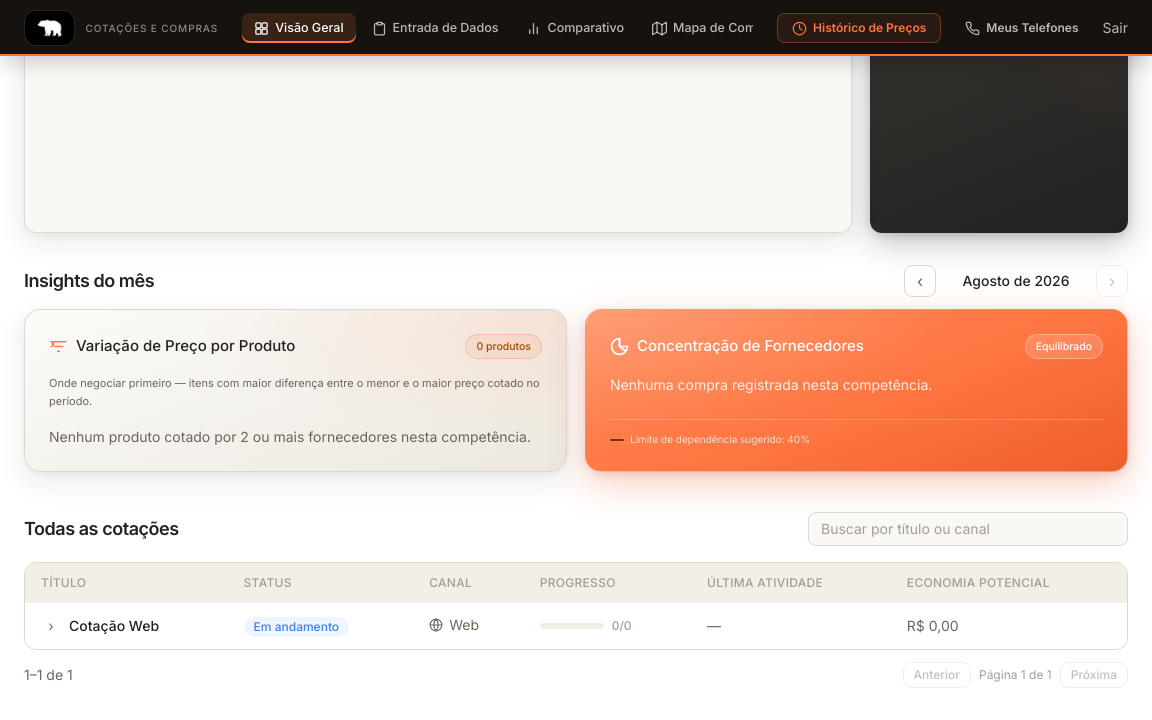
Scenario: Dashboard — tabela 'Todas as cotações', coluna Título › expande/colapsa o resumo da linha ao clicar no chevron, alternando aria-expanded
(page scrolled)
Check: the link "Cotação Web" is shown, box [69,617,159,634]
Check: the text "Nenhum produto adicionado a esta cotação ainda." is not shown
Click the button named "Expandir detalhes" at coordinates (51, 626), box [41,616,61,636]
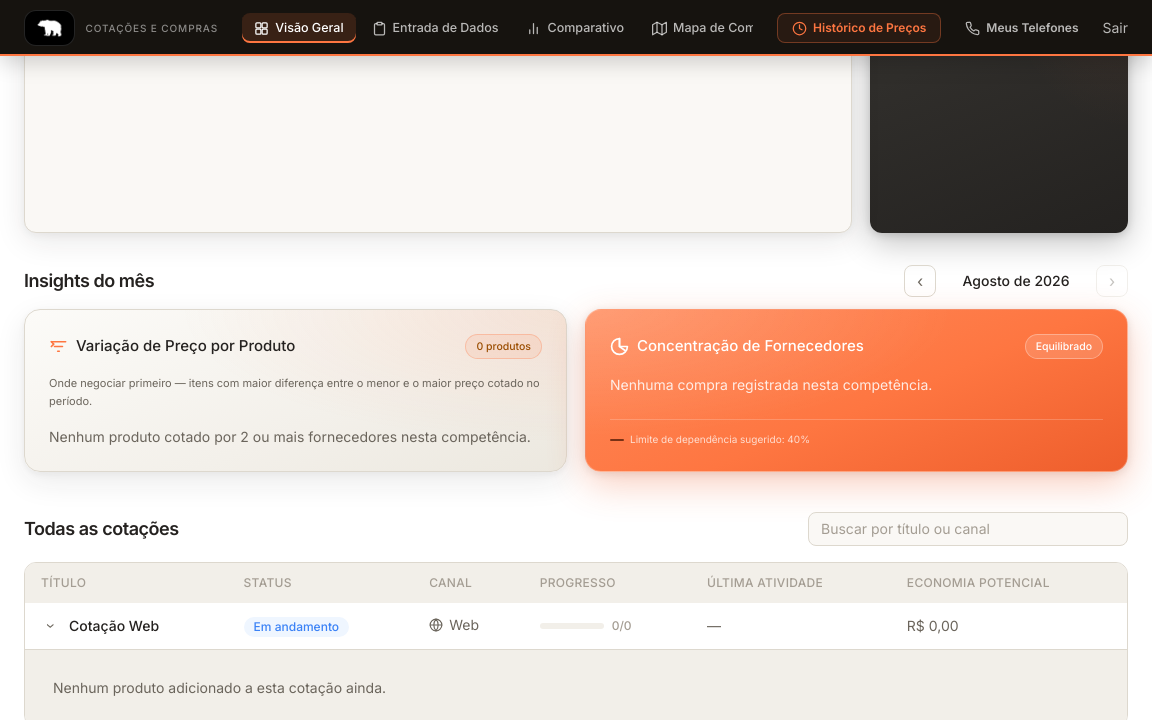
Check: the button named "Expandir detalhes" is expanded
Check: the button named "Recolher detalhes" is shown
Check: the text "Nenhum produto adicionado a esta cotação ainda." is shown, box [53,679,386,696]
Click the button named "Recolher detalhes" at coordinates (51, 626), box [41,616,61,636]
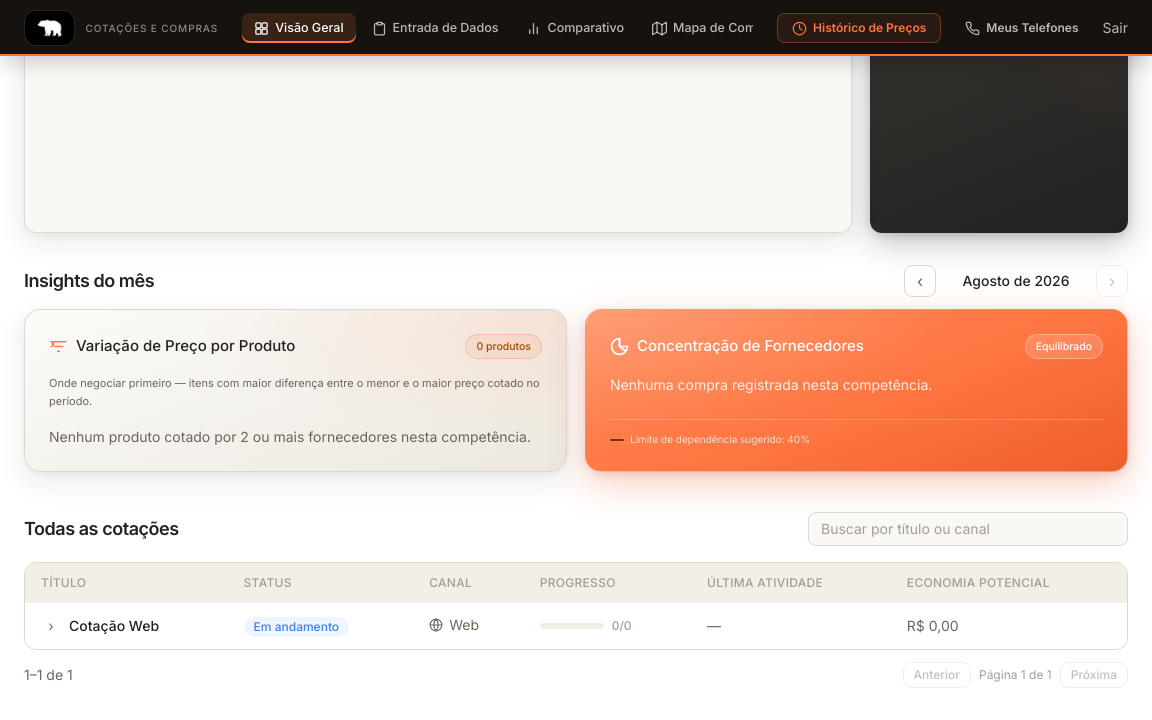
Check: the button named "Expandir detalhes" is shown, box [41,616,61,636]
Check: the link "Nenhum produto adicionado a esta cotação ainda." is gone
